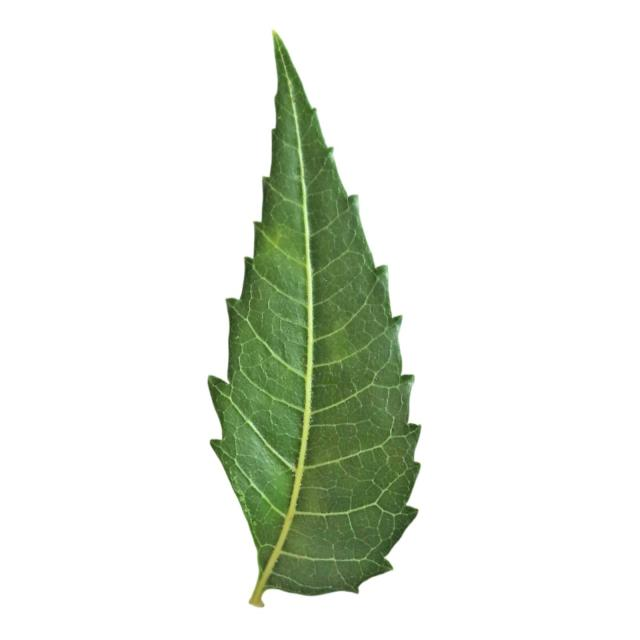Medicinal-Neem: (205, 24, 422, 606)
